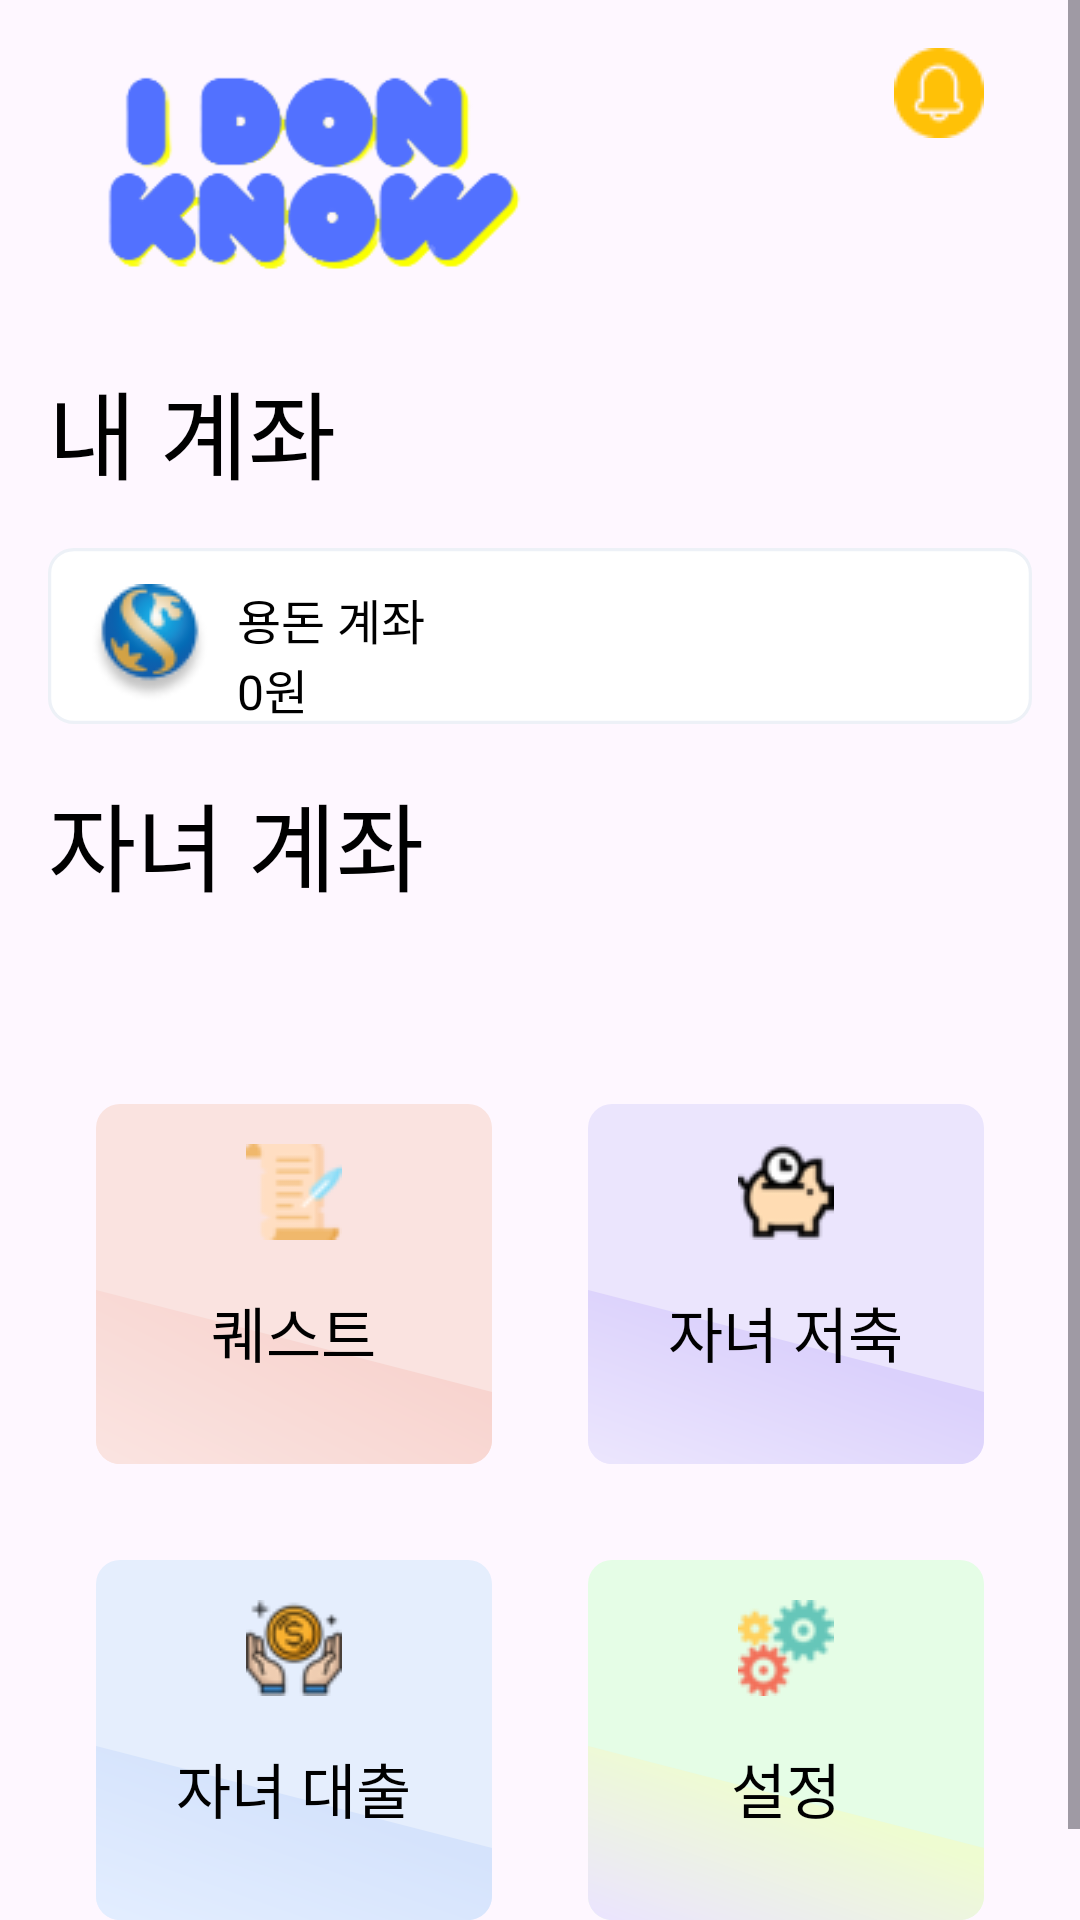

Named icons in this screenshot (1080×1920) and their centers, (x,y):
loan box: (294,1648)
noti: (939,93)
quest box: (294,1192)
saving box: (786,1192)
setting box: (786,1648)
